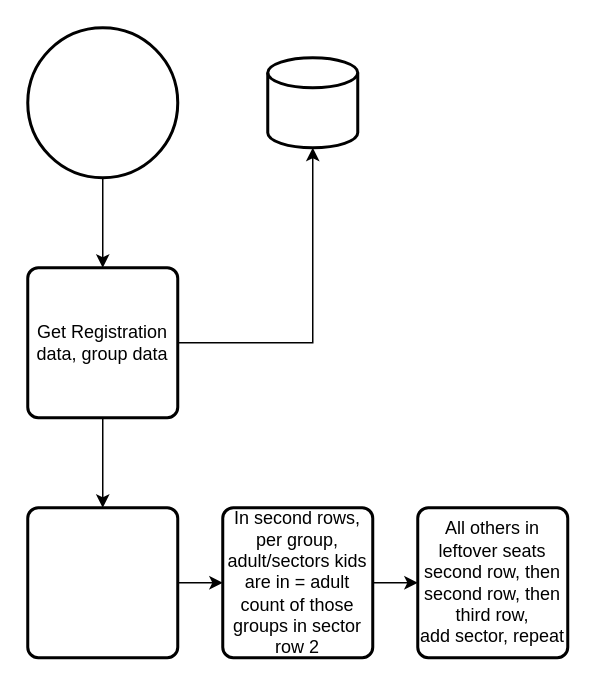
This 594x684 diagram has some shape labels left out. The centre of each missing label's shape, as x and y in pixels:
"Sort all kids by group, then assign on first row. Add sector when at 10 kids." goes at pixel 102 582.
"Sorting start" goes at pixel 102 102.
